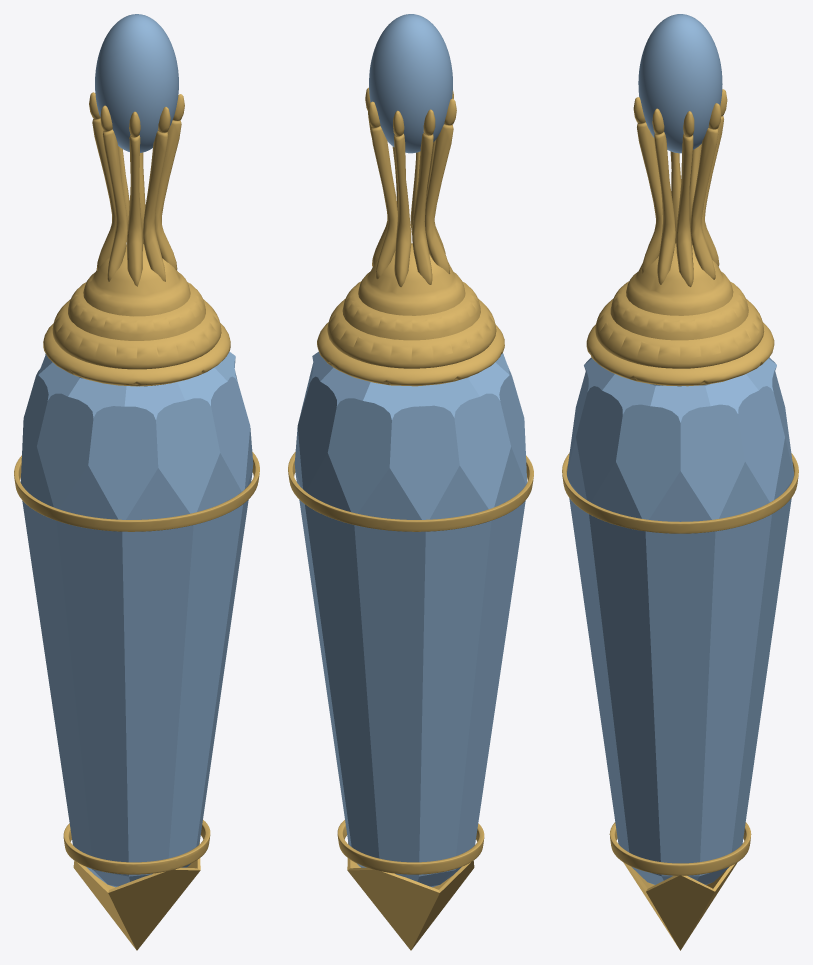
Rendered from moon-tear.glb.
The picture shows the model from 3 angles, left to right: view 1: azimuth 30°, elevation 25°; view 2: azimuth 150°, elevation 25°; view 3: azimuth 270°, elevation 25°; orthographic projection.
Parts seen in each view (by area): view 1: bottle_outside, lid_shapes, top_holder_array, top_sphere, bottom_tip, top_ring, bottom_ring; view 2: bottle_outside, lid_shapes, top_holder_array, top_sphere, bottom_tip, top_ring, bottom_ring; view 3: bottle_outside, lid_shapes, top_holder_array, top_sphere, bottom_tip, top_ring, bottom_ring.
Part boxes in pixels (x1,y1,x2,y2): bottle_outside: [20, 352, 253, 887]; lid_shapes: [43, 244, 230, 386]; top_holder_array: [89, 92, 184, 286]; top_sphere: [95, 14, 178, 152]; bottom_tip: [73, 842, 200, 950]; top_ring: [14, 452, 259, 531]; bottom_ring: [63, 820, 210, 874]; bottle_outside: [294, 351, 527, 887]; lid_shapes: [317, 243, 504, 386]; top_holder_array: [365, 87, 456, 286]; top_sphere: [369, 14, 452, 153]; bottom_tip: [347, 842, 474, 950]; top_ring: [288, 452, 533, 531]; bottom_ring: [337, 820, 484, 874]; bottle_outside: [567, 357, 793, 884]; lid_shapes: [586, 243, 774, 386]; top_holder_array: [633, 89, 727, 286]; top_sphere: [638, 14, 722, 153]; bottom_tip: [623, 862, 737, 950]; top_ring: [562, 453, 798, 533]; bottom_ring: [609, 822, 751, 875].
Bounding box in the file's own units: 0.1328 × 0.55 × 0.1263.
